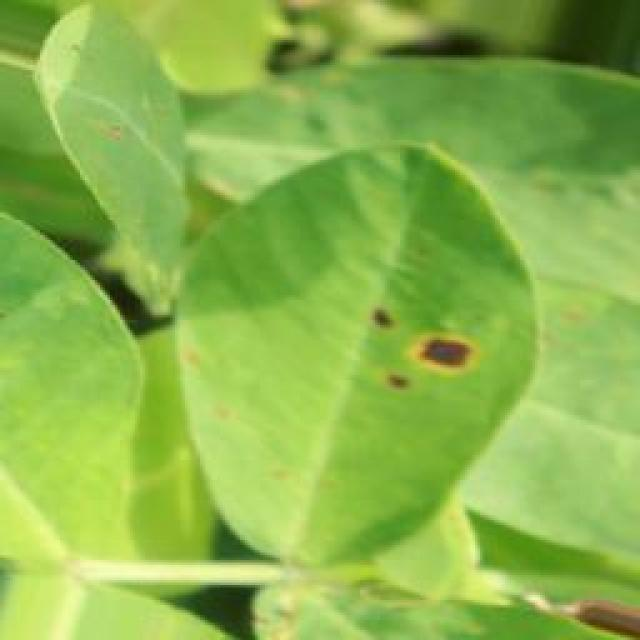Sigatoka: (349, 290, 483, 420), (100, 94, 134, 158)
